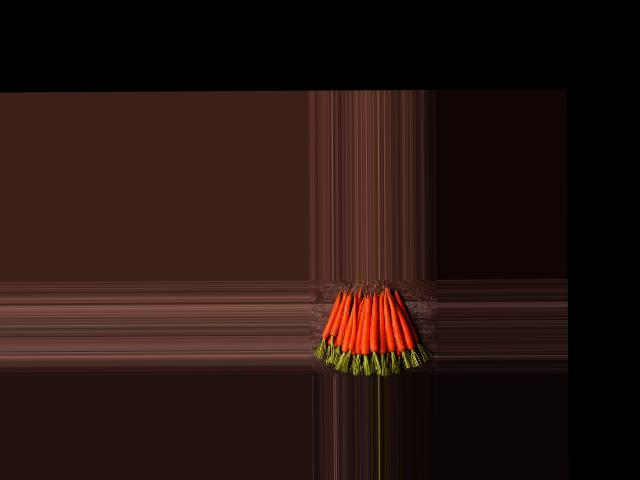carrot: (322, 293, 331, 341)
